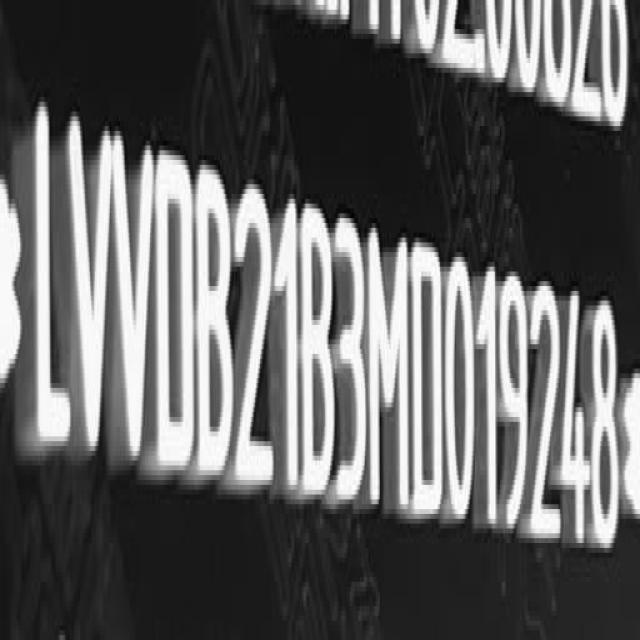0: (444, 259, 476, 526)
1: (274, 199, 302, 501), (475, 260, 498, 537)
2: (234, 178, 276, 487), (530, 280, 564, 539)
3: (336, 214, 368, 515)
4: (560, 289, 592, 546)
8: (591, 294, 618, 552)
9: (498, 270, 529, 540)
B: (196, 142, 233, 483), (302, 190, 334, 501)
D: (156, 142, 194, 476), (413, 223, 443, 528)
L: (34, 94, 70, 456)
M: (368, 232, 411, 515)
V: (69, 112, 111, 454), (112, 124, 152, 467)
